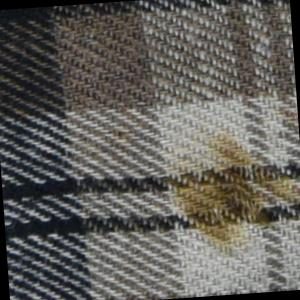Damage: (184, 141, 300, 241)
Oil Stain: (164, 118, 300, 264)
